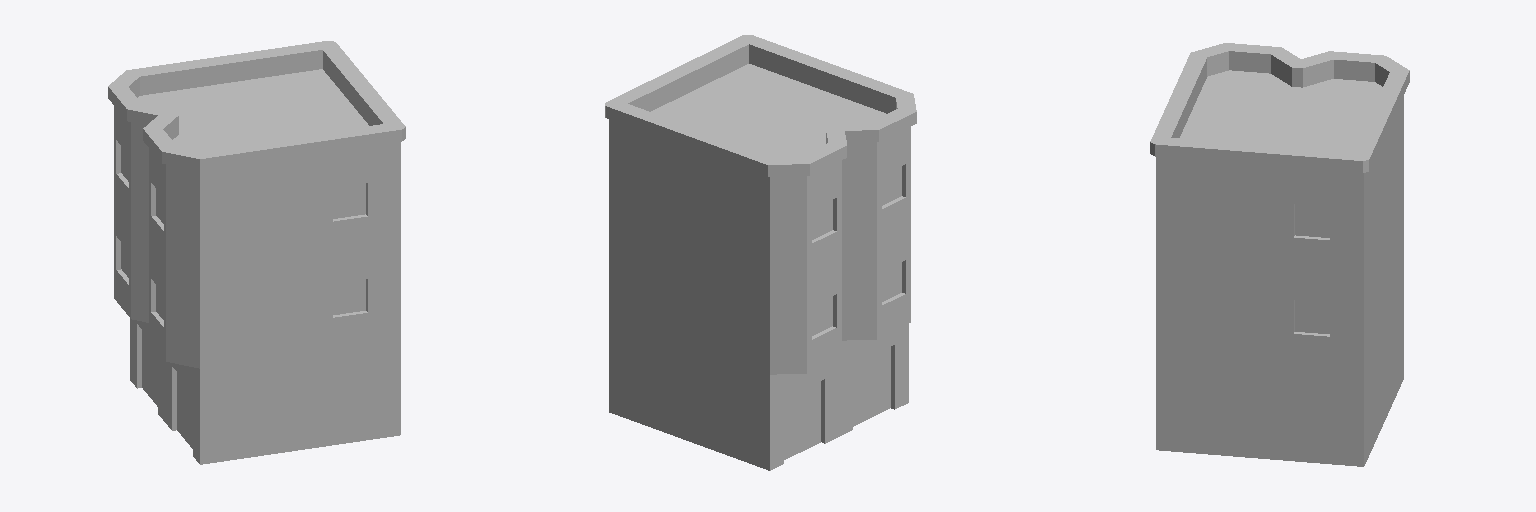
File: variant_11.obj
3 renders of one model, left to right at view 1: azimuth 30°, elevation 25°; view 2: azimuth 150°, elevation 25°; view 3: azimuth 270°, elevation 25°, orthographic.
Parts seen in each view (by area): view 1: small_buildingA; view 2: small_buildingA; view 3: small_buildingA.
Part boxes in pixels (x1,y1,x2,y2): small_buildingA: (108,41,405,464); small_buildingA: (605,35,916,470); small_buildingA: (1150,43,1409,466).
Size of the model in its own units: 1.06 by 1.28 by 0.9766.